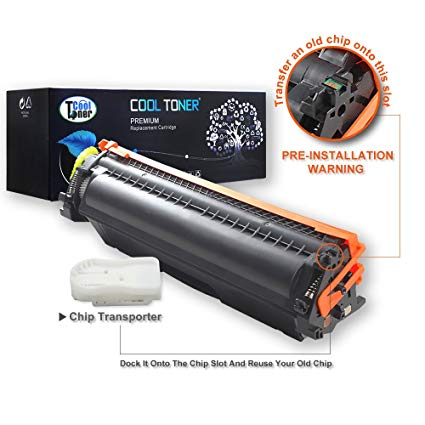Nonrec_Other: (58, 130, 383, 343)
